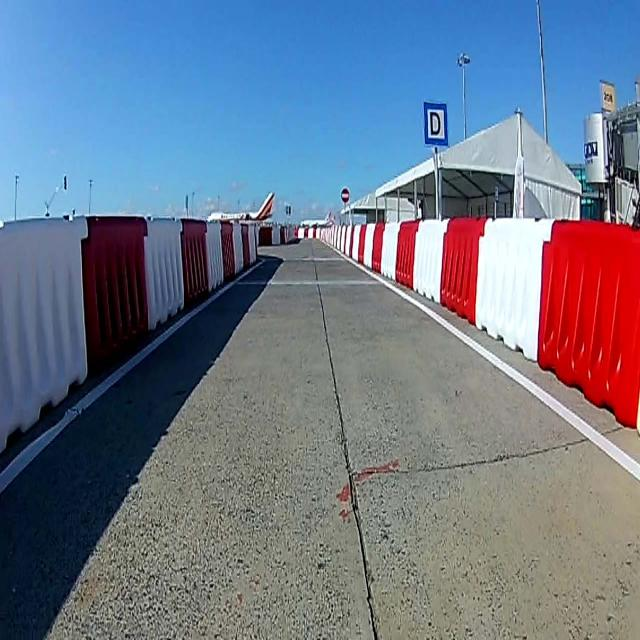durak: (422, 102, 448, 146)
girisyok: (340, 185, 350, 204)
